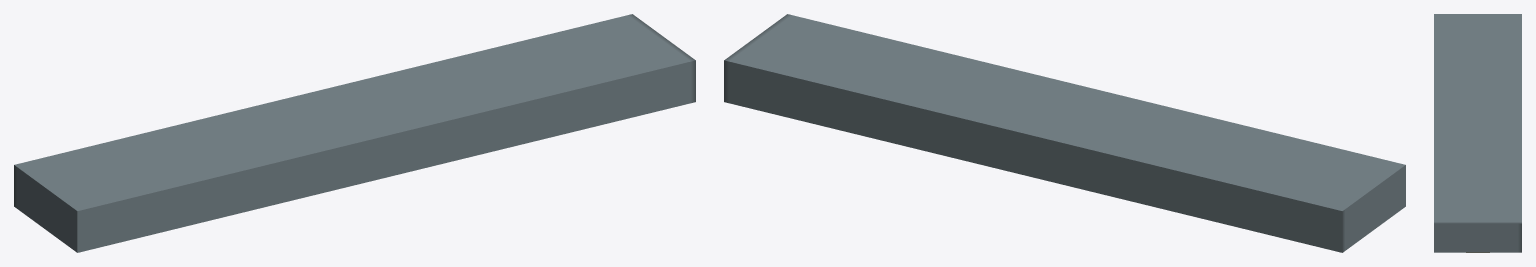
File: lampy_3.dae
3 renders of one model, left to right at view 1: azimuth 30°, elevation 25°; view 2: azimuth 150°, elevation 25°; view 3: azimuth 270°, elevation 25°, orthographic. The views are drawn at different scales.
Visible parts, largest first — view 1: Content; view 2: Content; view 3: Content.
Boxes of the visible parts, bbox=[...] form: Content: bbox=[14, 14, 695, 252]; Content: bbox=[724, 14, 1405, 252]; Content: bbox=[1434, 14, 1521, 252].
Size of the model in its own units: 62 by 5 by 11.
Materials: 1 (1 with a texture image).
